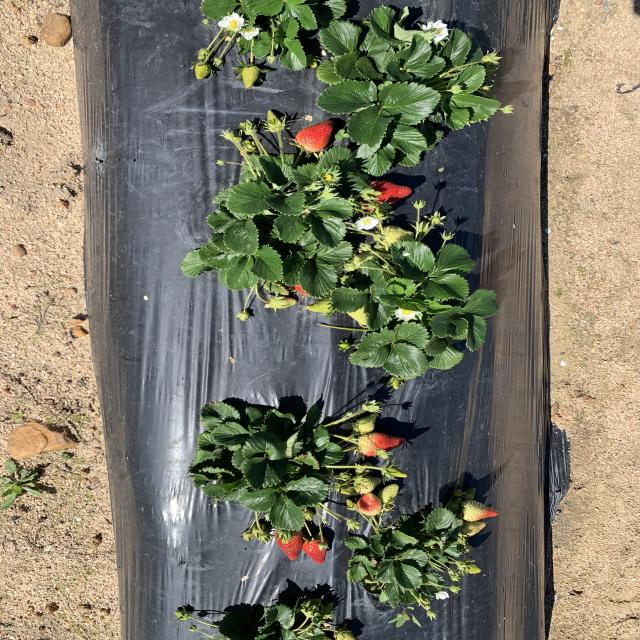unripe: (362, 179, 413, 208), (295, 118, 335, 152), (360, 434, 405, 456), (299, 535, 331, 565), (274, 527, 302, 561)
